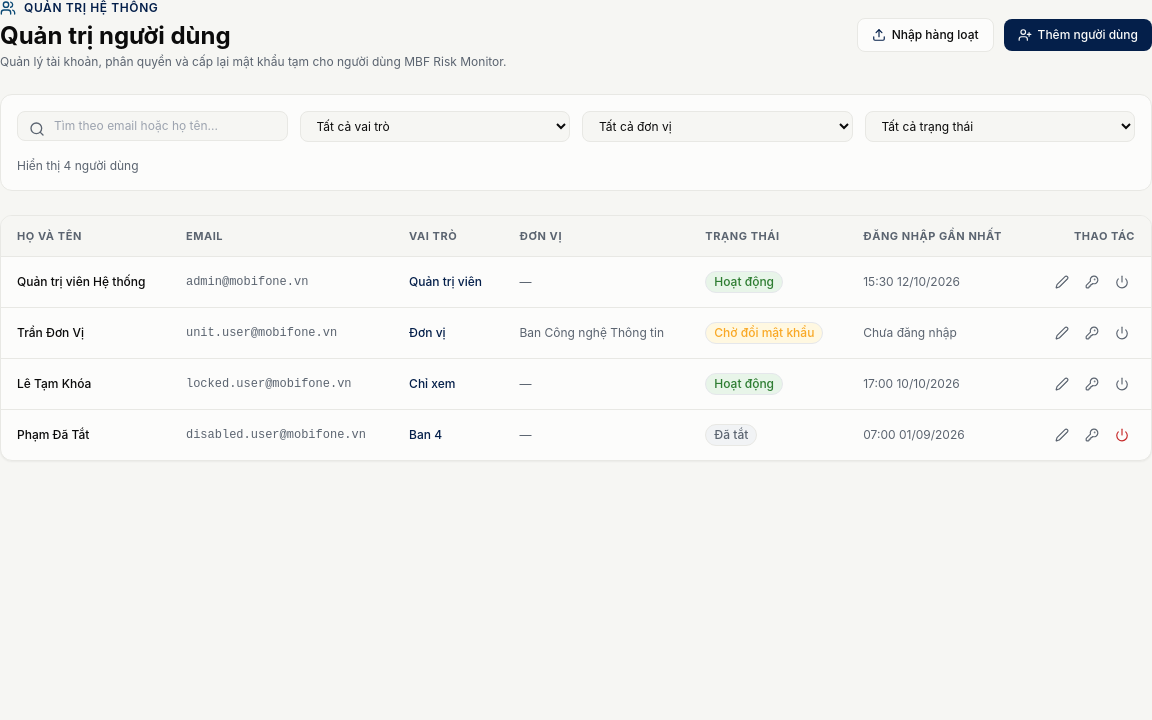
UsersView › handles disabling user and displays 409 error when trying to disable last admin
// Toggle active on admin user
What coordinates should you click on to do the following:
click the button named "Tắt tài khoản"
I would click on:
 (1122, 282)
Its box is x1=1109 y1=269 x2=1135 y2=295.
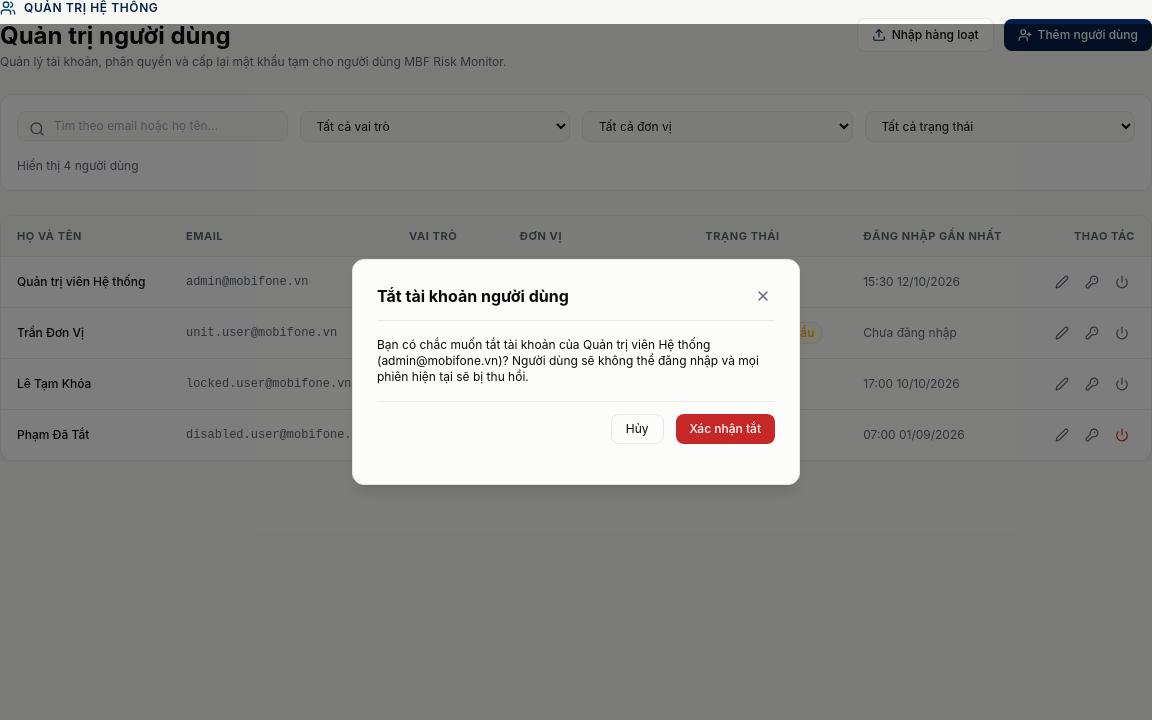
Now the text "Bạn có chắc muốn tắt tài khoản" is shown, box x1=377 y1=337 x2=759 y2=384
What coordinates should you click on to do the following:
click the button "Xác nhận tắt"
I would click on:
 (725, 429)
Its box is x1=676 y1=414 x2=775 y2=444.
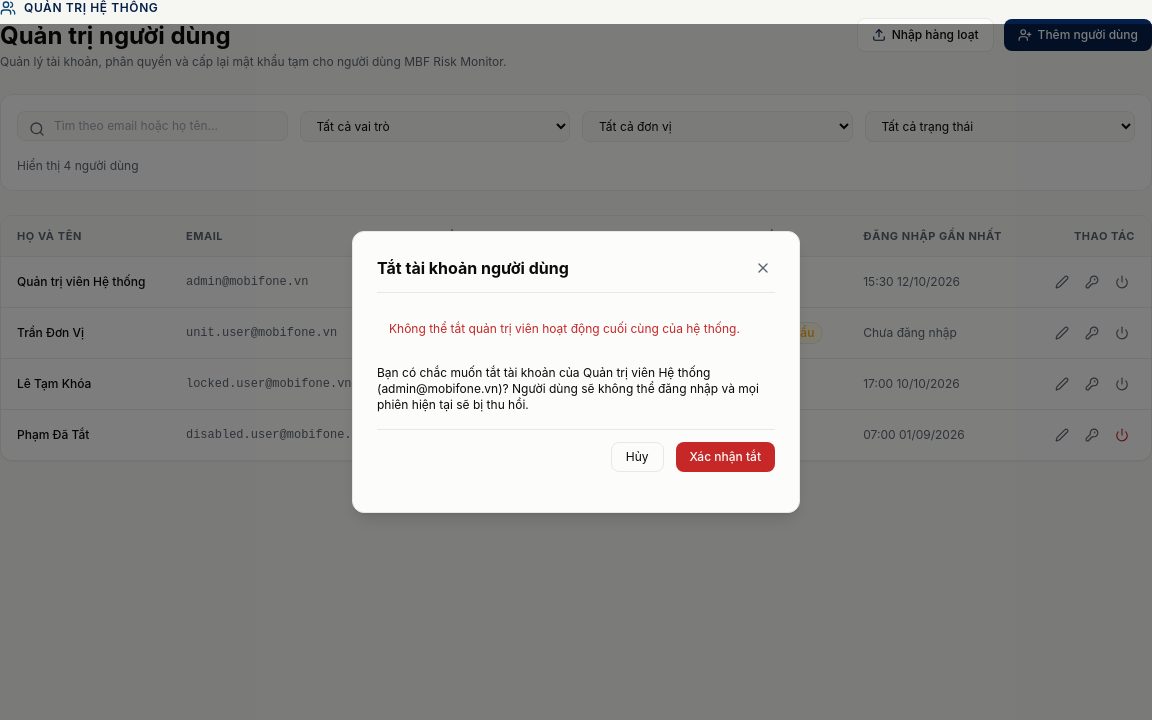
Now the text "Không thể tắt quản trị viên hoạt động cuối cùng của hệ thống." is shown, box x1=389 y1=321 x2=740 y2=336
